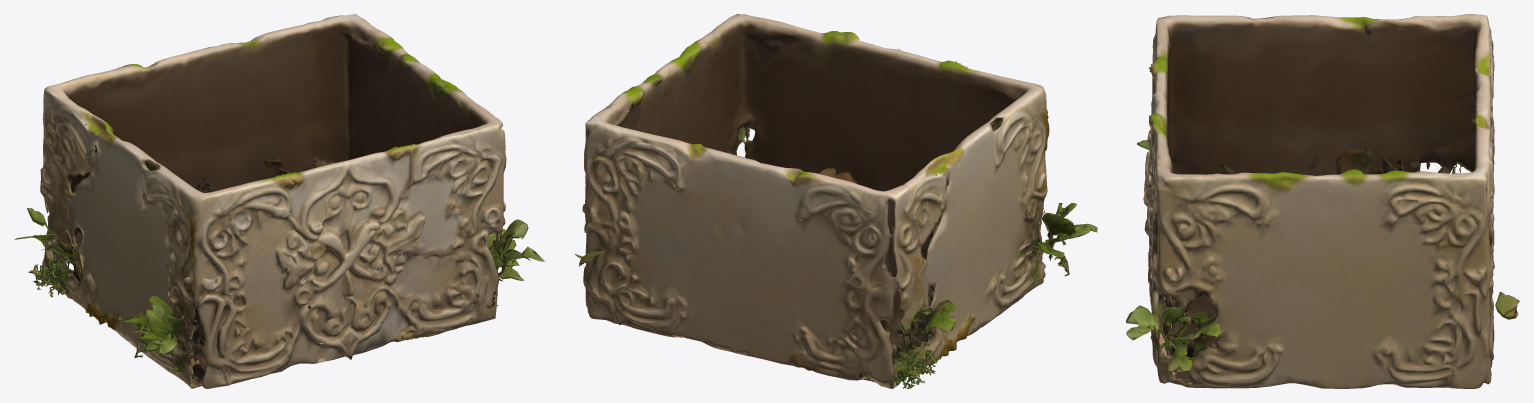
Rendered from Meshy_AI_a_stone_tile_at_a_goo_1115233151_texture.glb.
3 views of the same model, side by side, from view 1: azimuth 30°, elevation 25°; view 2: azimuth 150°, elevation 25°; view 3: azimuth 270°, elevation 25° (orthographic). The views are drawn at different scales.
Size of the model in its own units: 1.98 by 0.996 by 1.64.
Materials: 1 (1 with a texture image).
